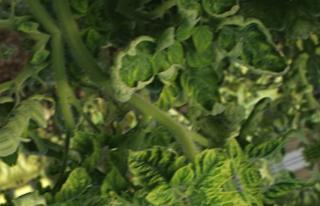Tomato leaf yellow virus: (208, 10, 293, 99), (87, 32, 180, 112), (151, 147, 236, 206), (35, 166, 103, 206), (65, 182, 141, 206)
